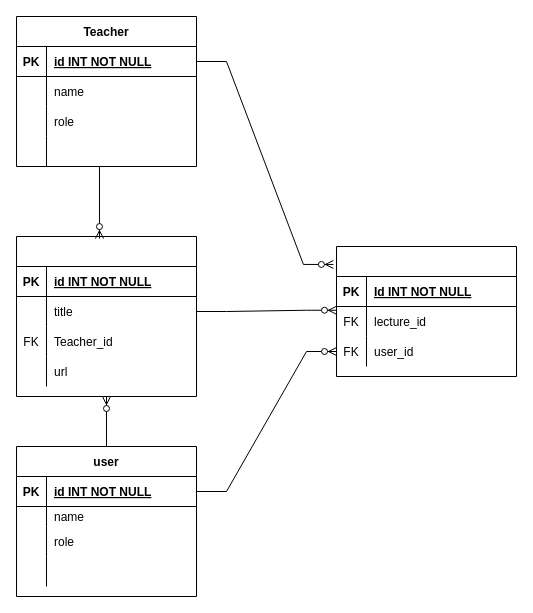
This 533x613 diagram has some shape labels left out. The box of each missing label's shape, as (x1, y1, x2, y2) in pixels:
assignment: (336, 246, 516, 376)
Lecture: (16, 236, 196, 396)
